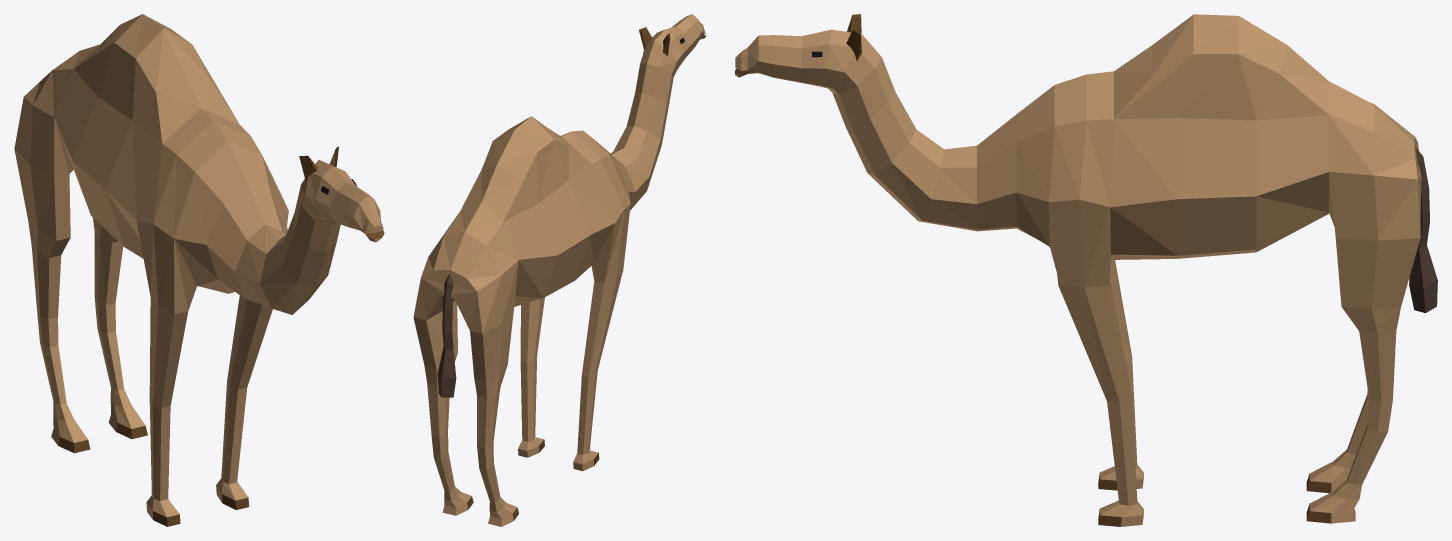
Rendered from camel.glb.
3 renders of one model, left to right at view 1: azimuth 30°, elevation 25°; view 2: azimuth 150°, elevation 25°; view 3: azimuth 270°, elevation 25°, orthographic. The views are drawn at different scales.
Visible parts, largest first — view 1: camel; view 2: camel; view 3: camel.
Part boxes in pixels (box(x1,y1,x2,y2)): camel: box(14, 14, 384, 526); camel: box(413, 14, 705, 526); camel: box(735, 14, 1437, 526).
Bounding box in the file's own units: 64.19 × 211 × 275.
